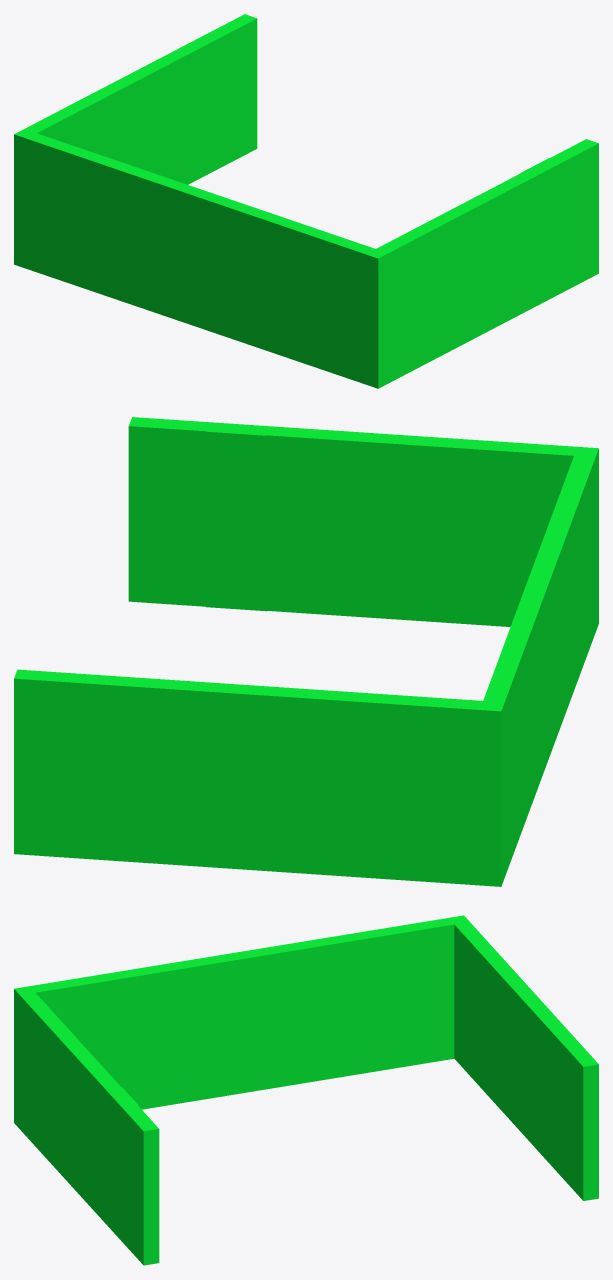
Rendered from DEHB01ALk0001Cjm.dae.
The picture shows the model from 3 angles, top to bottom: view 1: azimuth 30°, elevation 25°; view 2: azimuth 150°, elevation 25°; view 3: azimuth 270°, elevation 25°; orthographic projection. The views are drawn at different scales.
Bounding box in the file's own units: 30.57 × 34.99 × 8.86.
